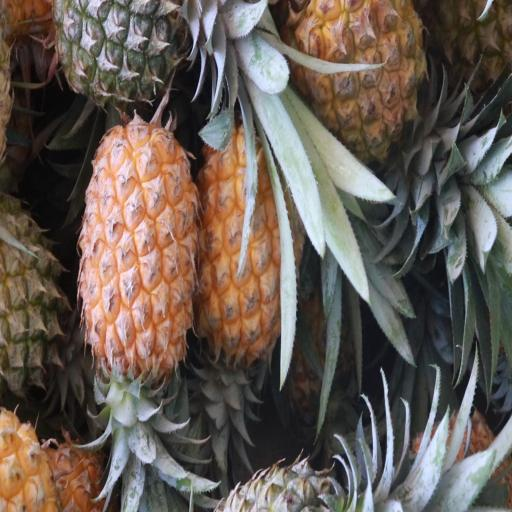Pineapple - v8 v1: (80, 125, 198, 367), (199, 128, 304, 352), (293, 0, 426, 160)
